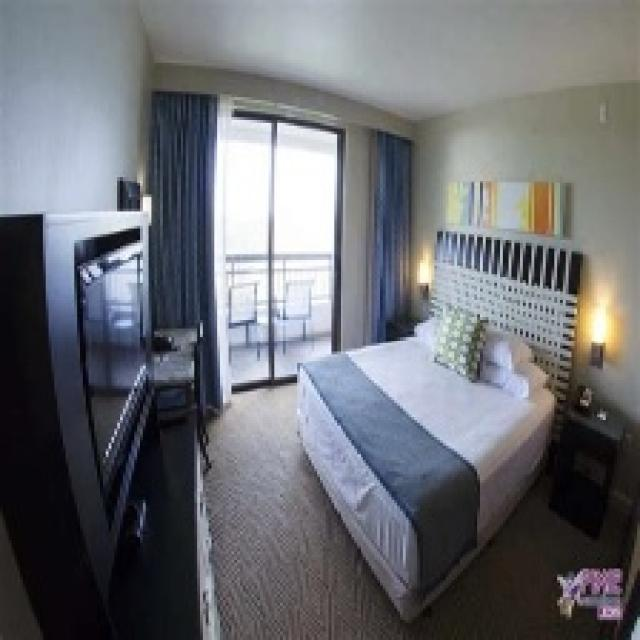Bed: (294, 226, 583, 623)
